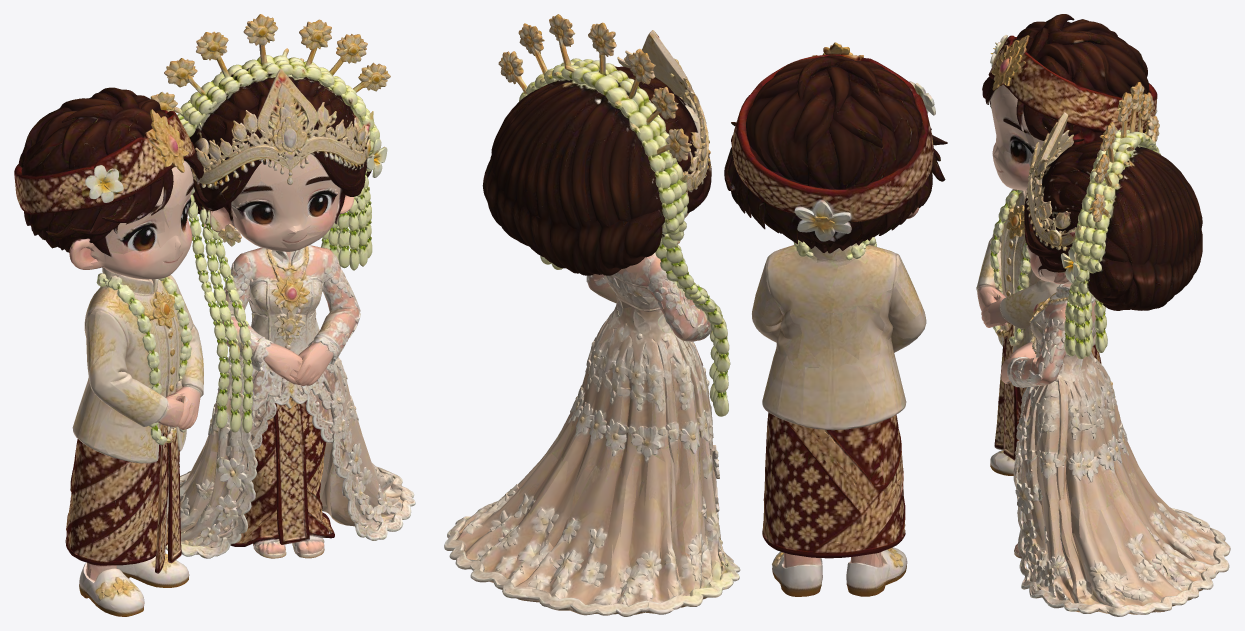
The model's file is couple.glb.
The picture shows the model from 3 angles, left to right: view 1: azimuth 30°, elevation 25°; view 2: azimuth 150°, elevation 25°; view 3: azimuth 270°, elevation 25°; orthographic projection. The views are drawn at different scales.
Visible parts, largest first — view 1: output_unwrapped; view 2: output_unwrapped; view 3: output_unwrapped.
Boxes of the visible parts, x1,y1,x2,y2 form: output_unwrapped: (14,14,415,616); output_unwrapped: (444,14,947,616); output_unwrapped: (976,14,1230,616).
Size of the model in its own units: 1.59 by 1.9 by 0.9396.
Materials: 1 (1 with a texture image).
